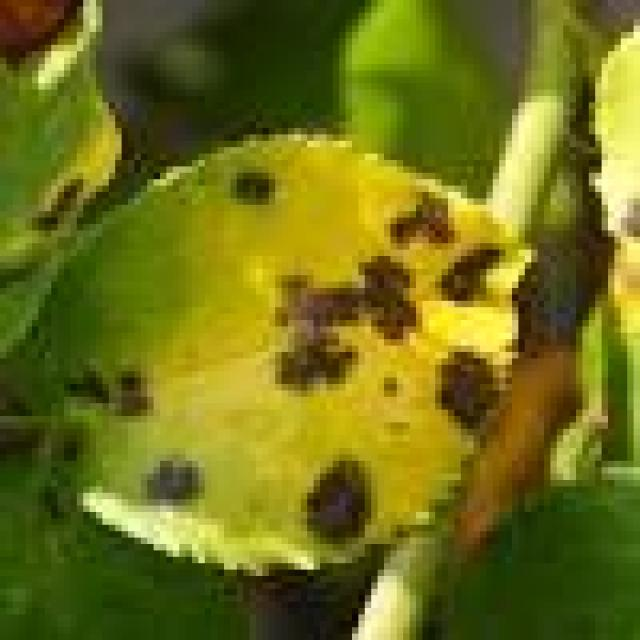black-spot: (262, 192, 538, 467)
